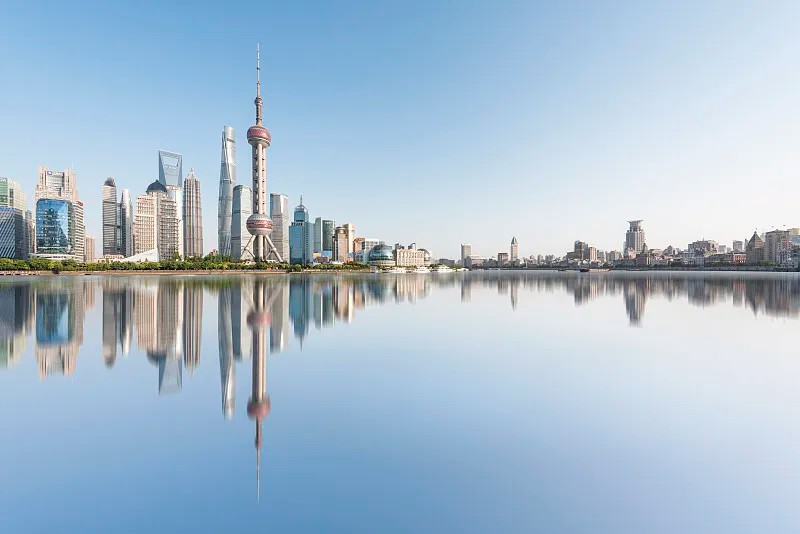Oriental: (240, 43, 283, 259)
